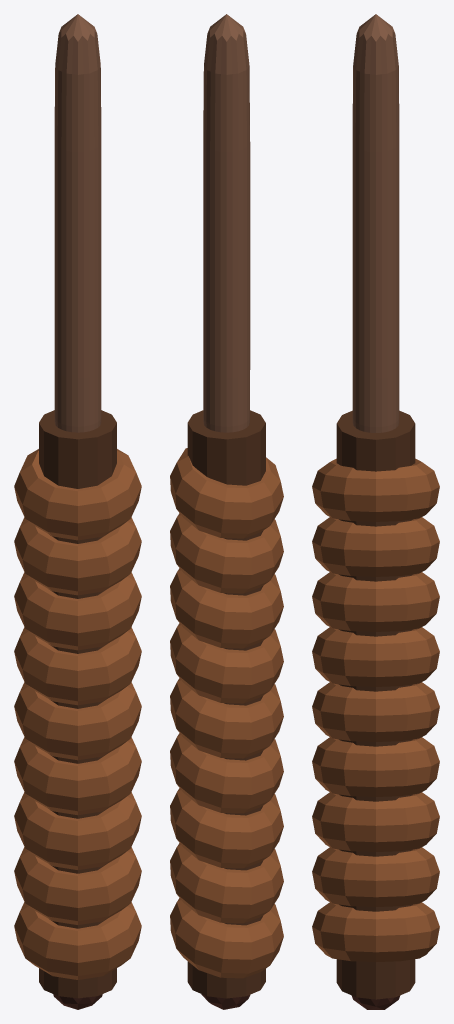
File: Wand 410.glb
The picture shows the model from 3 angles, left to right: view 1: azimuth 90°, elevation 25°; view 2: azimuth 150°, elevation 25°; view 3: azimuth 270°, elevation 25°; orthographic projection.
Visible parts, largest first — view 1: GeneratedWand; view 2: GeneratedWand; view 3: GeneratedWand.
Part boxes in pixels (box(x1,y1,x2,y2)): GeneratedWand: box(14, 14, 141, 1009); GeneratedWand: box(170, 14, 283, 1009); GeneratedWand: box(312, 14, 439, 1009).
Size of the model in its own units: 0.0497 by 0.4988 by 0.0581.
